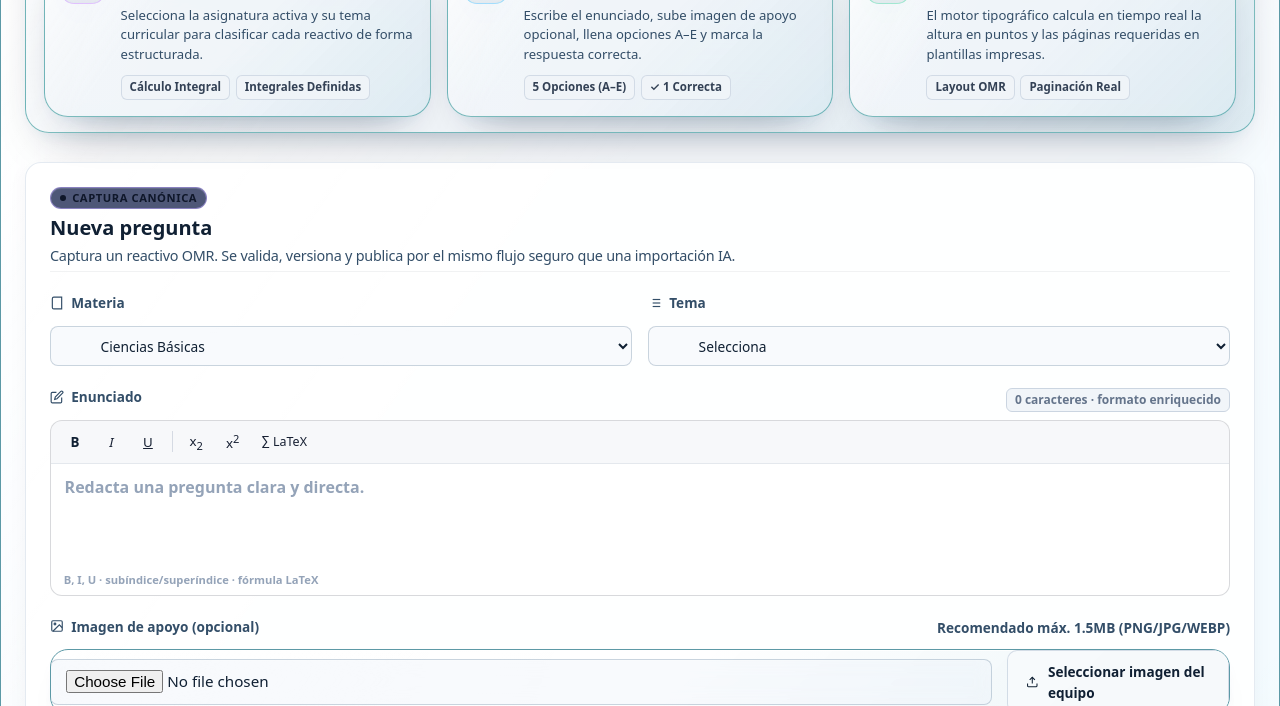
Test: banco refactor comportamiento › renderiza preguntas existentes y permite filtrar por texto en el listado
The image size is (1280, 706).
(page scrolled)
Note: Seleccionar materia para activar listado
Select "Ciencias Básicas" in the dropdown labelled "Materia" at [341, 346], box [50,326,632,366]
(page scrolled)
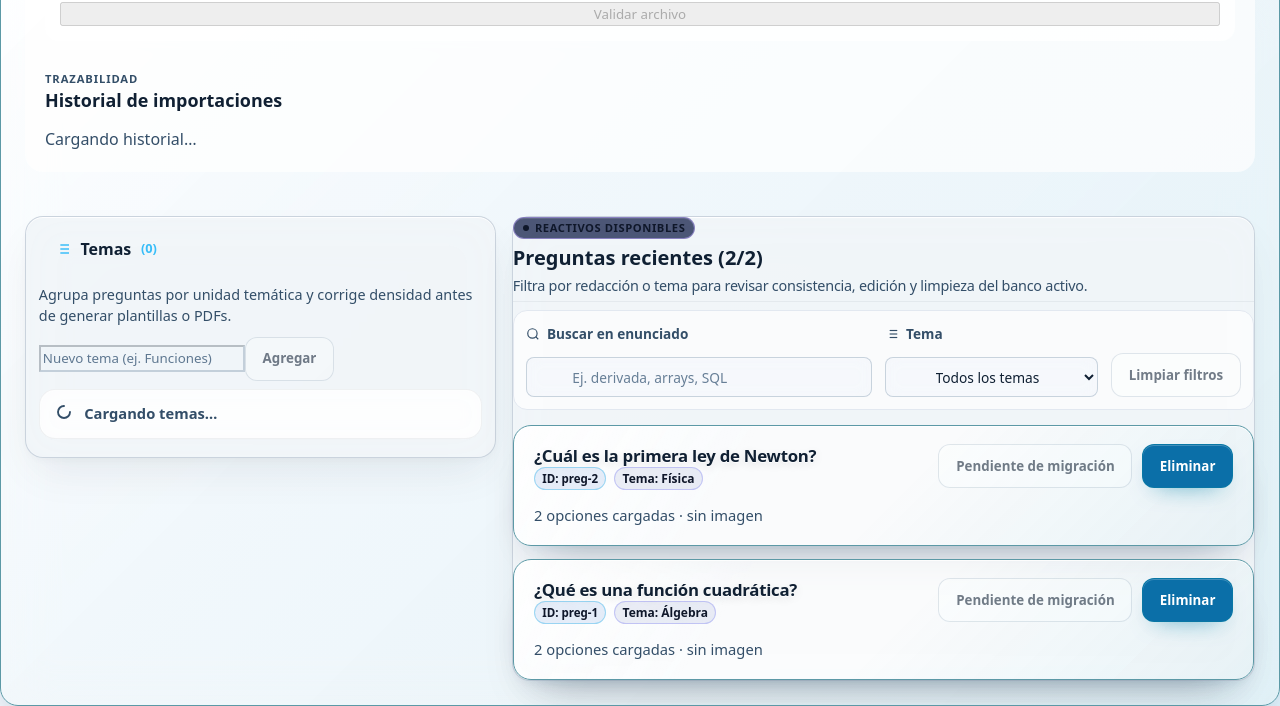
Expected: the text "¿Qué es una función cuadrática?" is shown, [534,578,797,601]
Expected: the text "¿Cuál es la primera ley de Newton?" is shown, [534,443,816,467]
Type "cuadrática" into the search field labelled "Buscar en enunciado" at [699, 377], box [526,357,872,397]
(page scrolled)
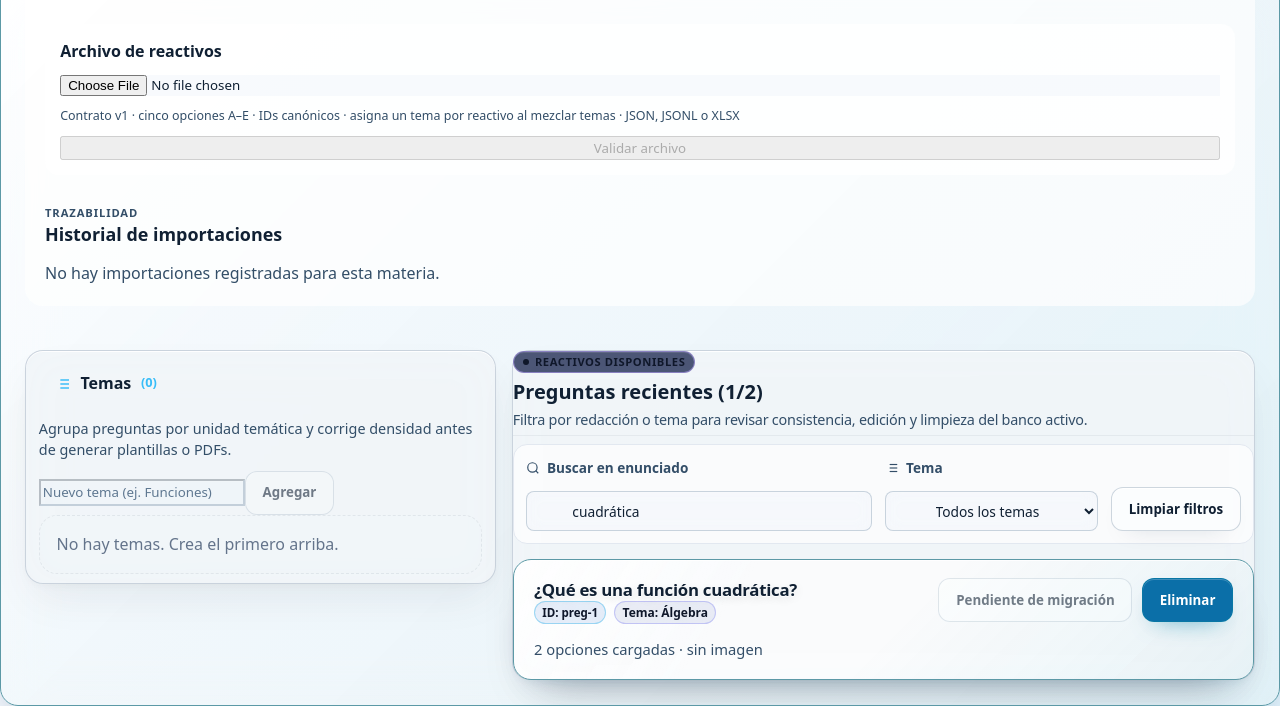
Expected: the text "¿Qué es una función cuadrática?" is shown, [534,577,797,601]
Expected: the text "¿Cuál es la primera ley de Newton?" is gone
